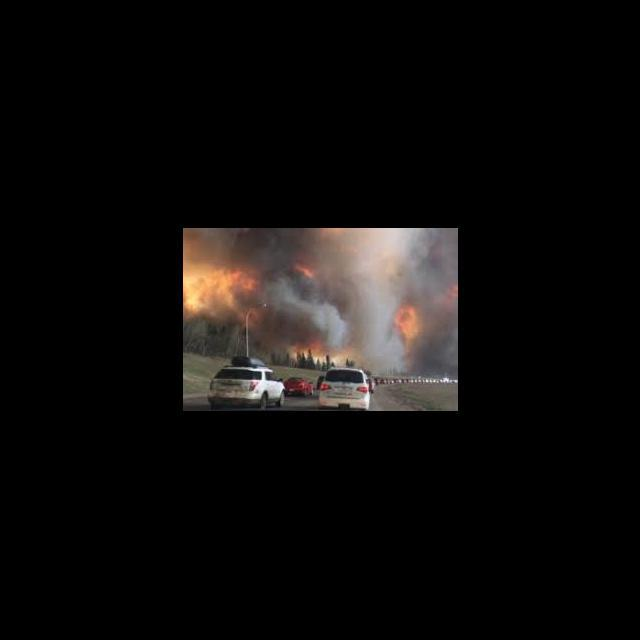Fire: (184, 266, 248, 314), (392, 306, 422, 340), (288, 350, 339, 368), (294, 261, 316, 281)
Smoke: (249, 232, 368, 344), (369, 229, 456, 300), (424, 302, 458, 374), (205, 230, 248, 263), (368, 342, 403, 374), (368, 300, 391, 342)
